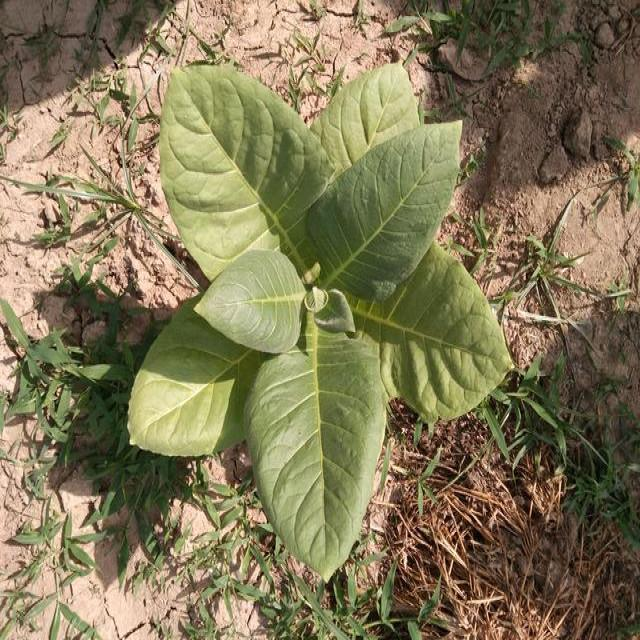crop: (123, 51, 518, 589)
